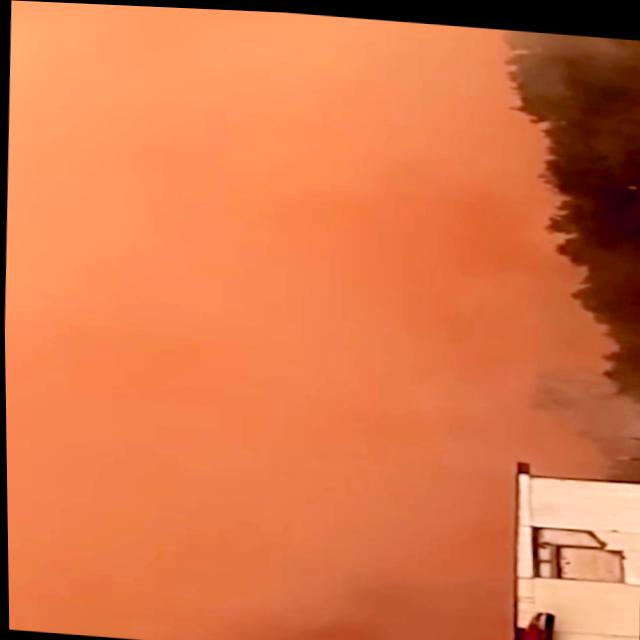smoke: (6, 517, 480, 640)
